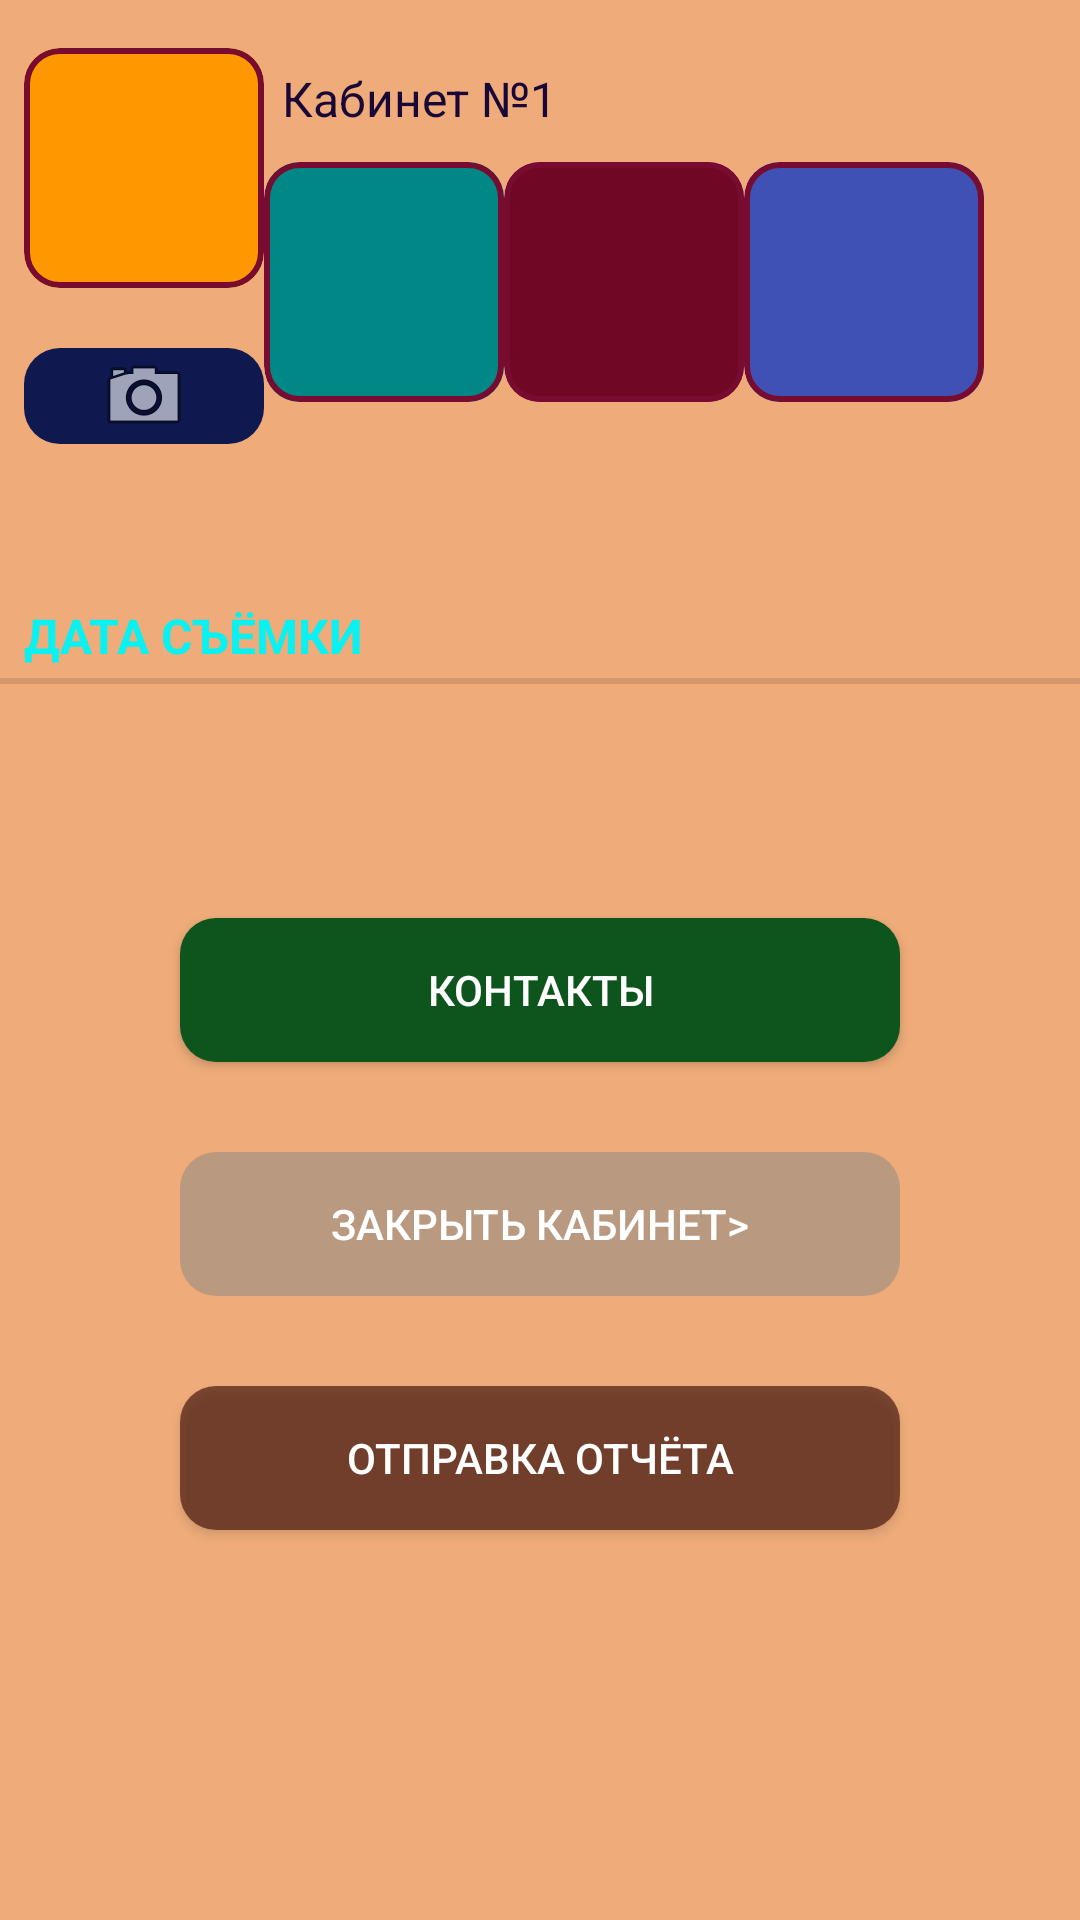

Named icons in this screenshot (1080 × 1920) and their bounding boxes, [x1=x1, y1=y1, x2=x2, y2=y2]:
camera: [x1=24, y1=348, x2=264, y2=444]
